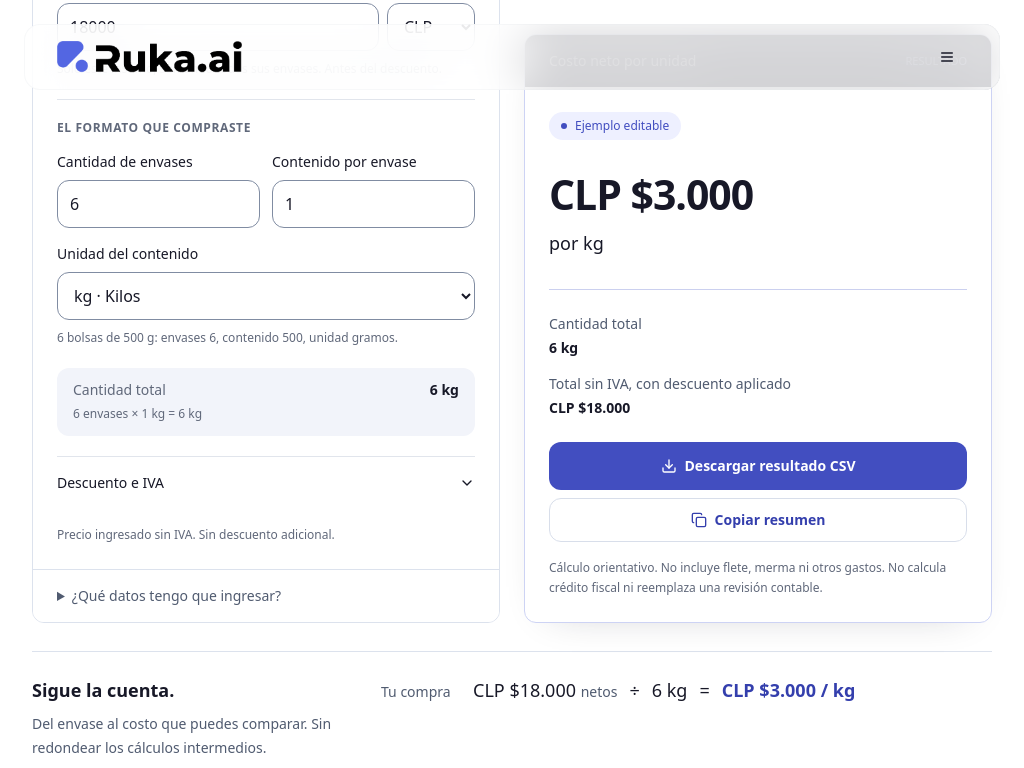
final tool workspace › copies a contextual result only on request and invalidates copied feedback after editing
Later steps or results of the test are not shown.
(page scrolled)
Click the button "Copiar resumen".
click(758, 520)  # box [549,498,967,542]
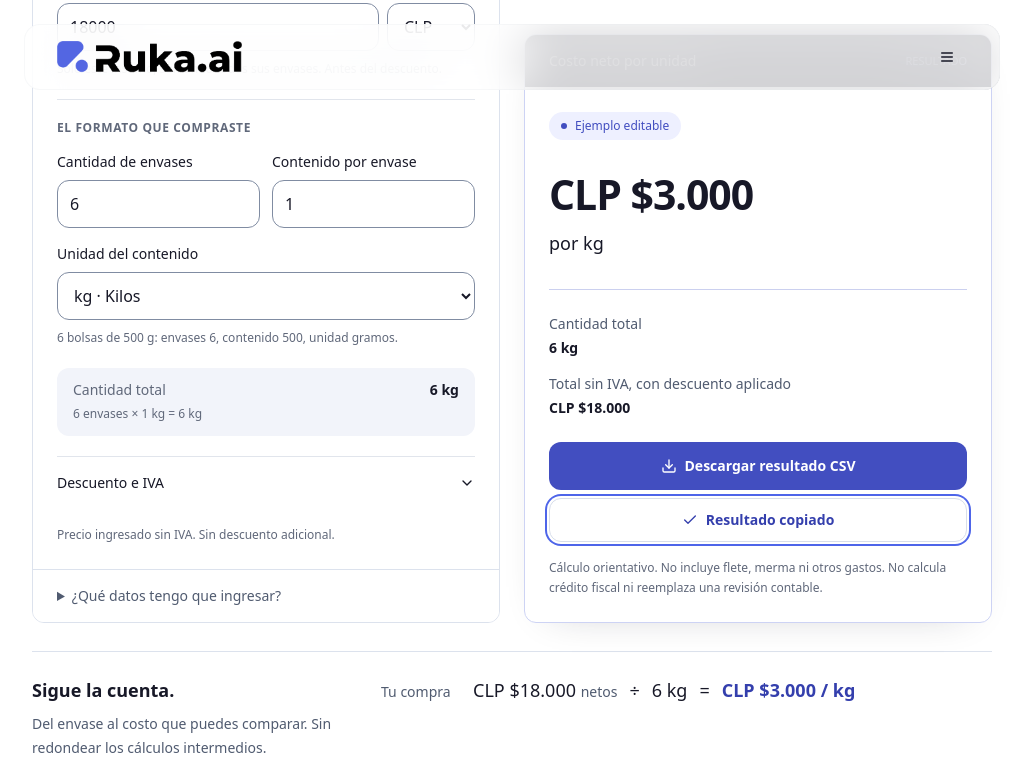
Expected: the button "Resultado copiado" is shown, [549,498,967,542]
